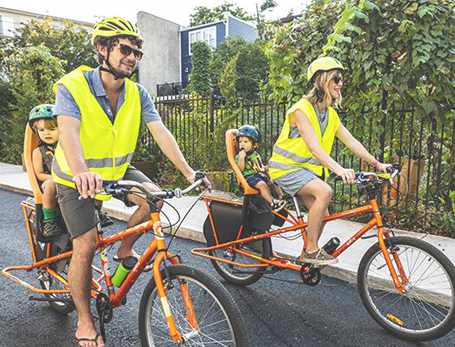Bicycle: (196, 180, 455, 340), (14, 197, 254, 345)
Person: (54, 20, 156, 327), (274, 52, 361, 280)
